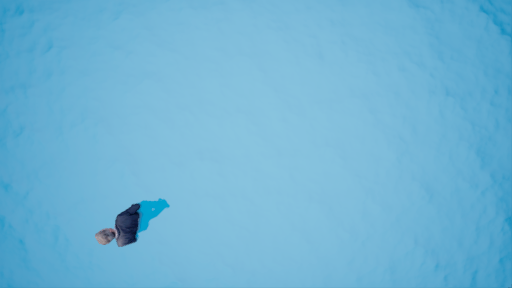person: (98, 197, 172, 253)
